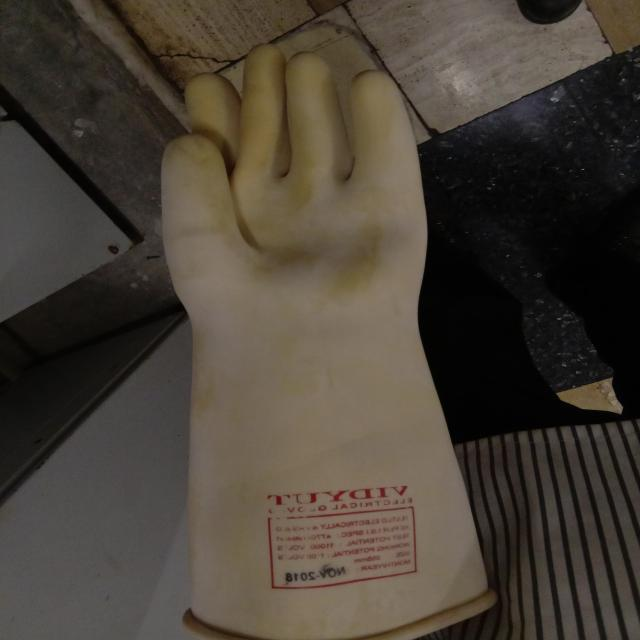gloved_hand: (137, 41, 500, 640)
